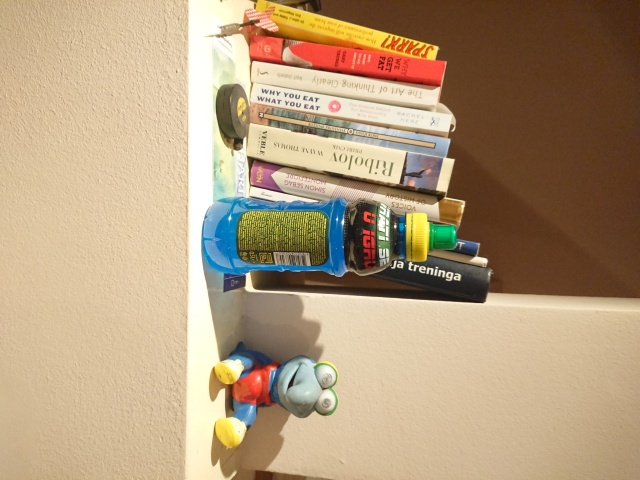Vindi Iso Sport Forest Strawberries 500mL: (200, 195, 458, 280)
